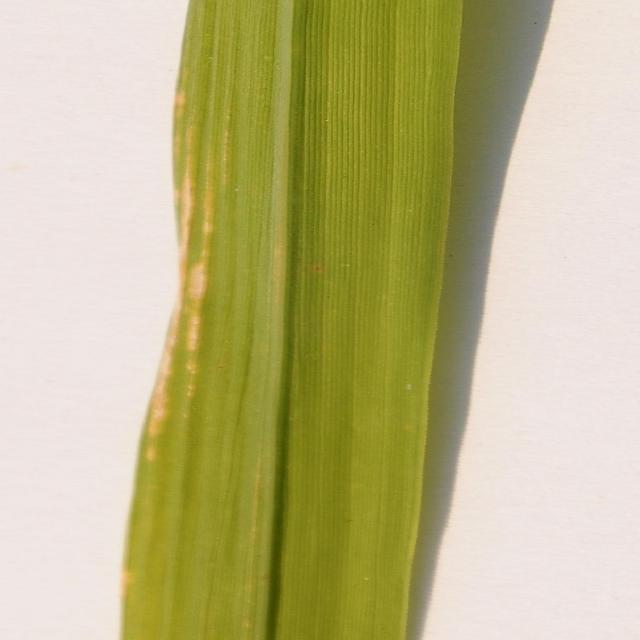Bacterial_Leaf_Blight: (130, 24, 283, 592)
